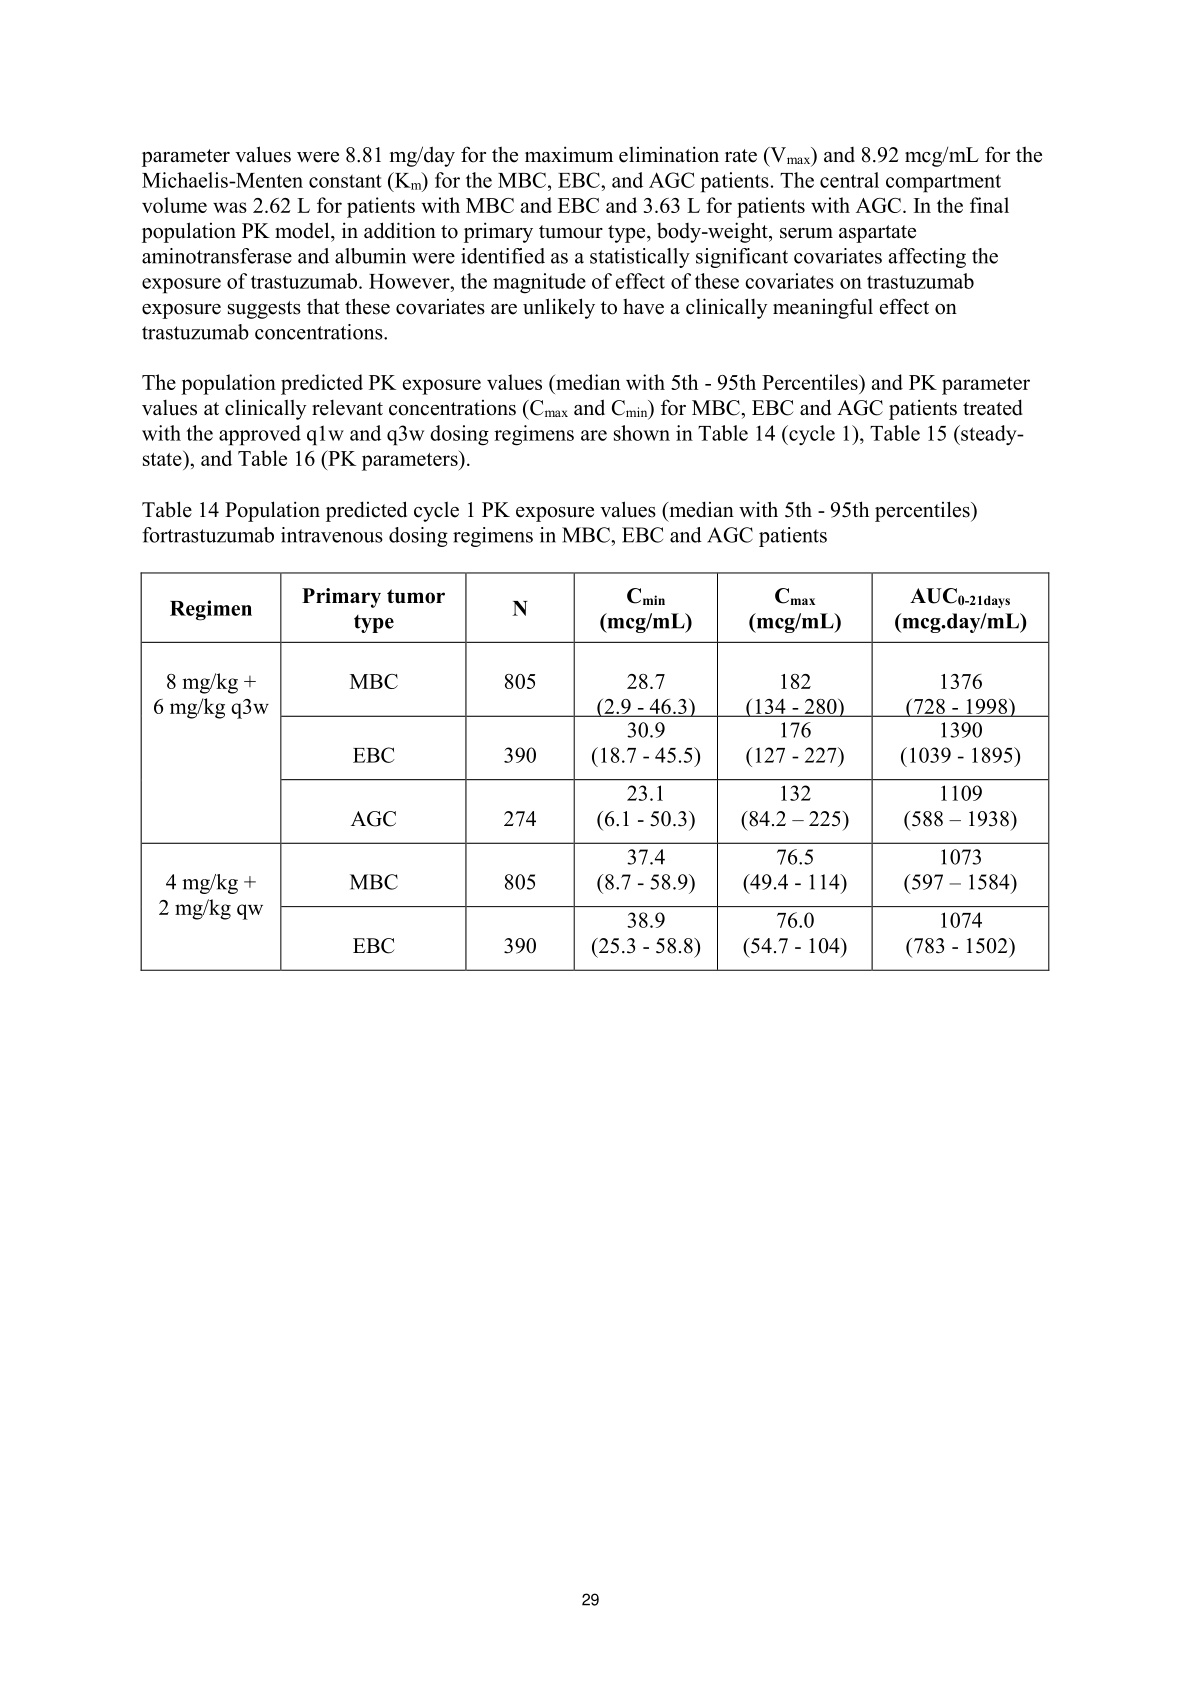merged_cells: (139, 570, 1051, 973)
